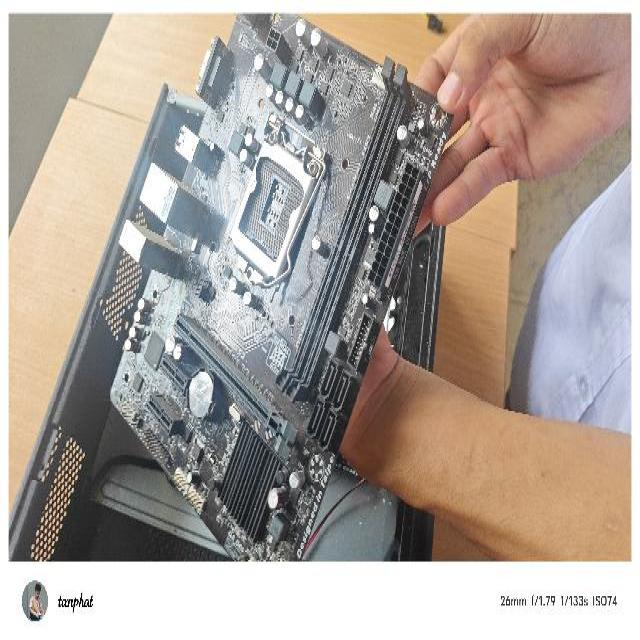Mainboard: (100, 8, 455, 561)
